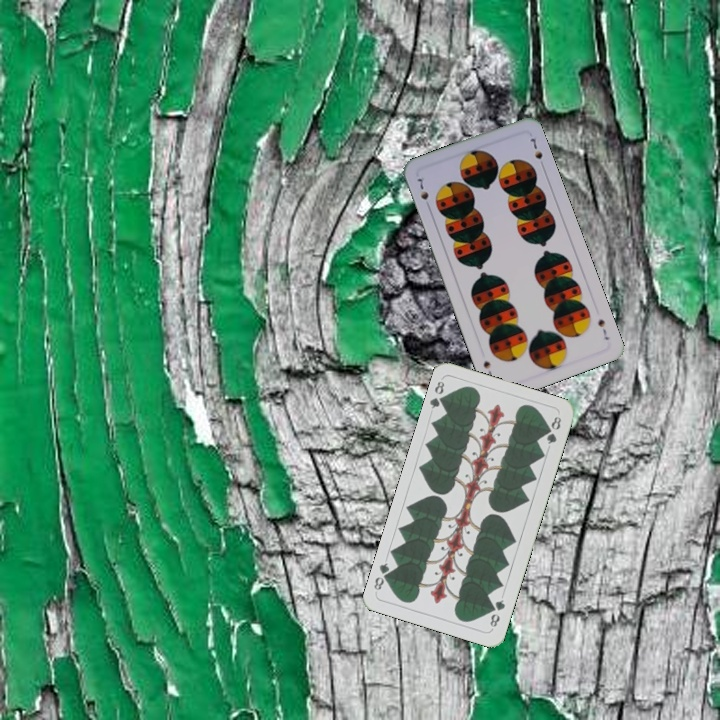G8: (426, 377, 450, 411), (486, 595, 508, 632)
S7: (414, 174, 433, 212), (594, 315, 612, 343)
